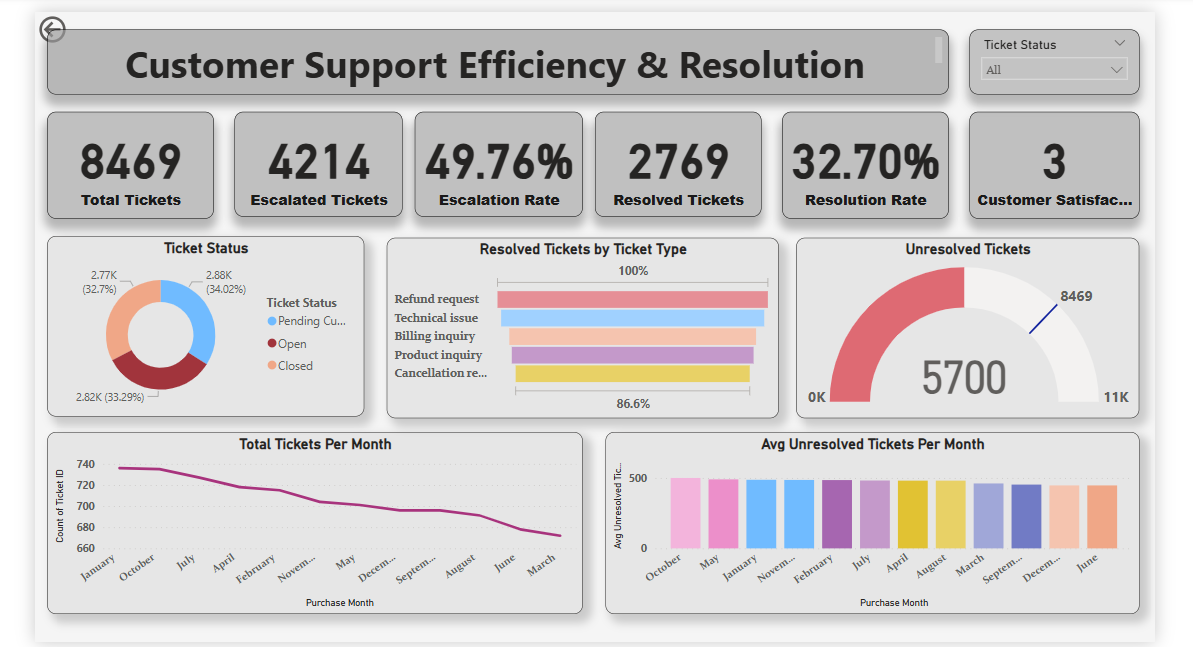

This screenshot's page, from the dashboard's own definition file:
{"tool":"powerbi","page":{"name":"Page 1","canvas":[1280,720],"ordinal":0},"visuals":[{"type":"card","fields":{"Values":["Measures (2).total tickets"]},"box":[14,114,190,122],"z":0},{"type":"card","fields":{"Values":["Measures (2).Resolved Tickets"]},"box":[640,114,190,120],"z":1000},{"type":"card","fields":{"Values":["Measures (2).AVERAGE Customer Satisfaction Score"]},"box":[1068,114,194,122],"z":2000},{"type":"card","fields":{"Values":["Measures (2).Resolution Rate"]},"box":[854,114,190,122],"z":3000},{"type":"card","fields":{"Values":["Measures (2).Escalation Rate"]},"box":[228,114,192,120],"z":4000},{"type":"actionButton","box":[0,0,100,40],"z":4001},{"type":"textbox","box":[14,20,1030,74],"z":4003},{"type":"card","fields":{"Values":["Measures (2).Escalation Rate"]},"box":[434,114,192,120],"z":4004},{"type":"lineChart","title":"Total Tickets Per Month","fields":{"Category":["Cleaned_Customer_Support_Tickets.Purchase Month"],"Y":["CountNonNull(Cleaned_Customer_Support_Tickets.Ticket ID)"]},"box":[14,480,612,208],"z":4006},{"type":"donutChart","title":"Ticket Status ","fields":{"Y":["CountNonNull(Cleaned_Customer_Support_Tickets.Ticket Status)"],"Category":["Cleaned_Customer_Support_Tickets.Ticket Status"]},"box":[14,256,362,206],"z":4007},{"type":"funnel","title":"Resolved Tickets by Ticket Type","fields":{"Y":["Measures (2).Resolved Tickets"],"Category":["Cleaned_Customer_Support_Tickets.Ticket Type"]},"box":[402,258,448,206],"z":4009},{"type":"gauge","title":"Unresolved Tickets","fields":{"TargetValue":["Measures (2).Total Tickets"],"Y":["Measures (2).Unresolved Tickets"]},"box":[870,258,392,206],"z":4010},{"type":"clusteredColumnChart","title":"Avg Unresolved Tickets Per Month ","fields":{"Category":["Cleaned_Customer_Support_Tickets.Purchase Month"],"Y":["Measures (2).Avg Unresolved Tickets Per Month"]},"box":[652,480,610,208],"z":4011},{"type":"slicer","fields":{"Values":["Cleaned_Customer_Support_Tickets.Ticket Status"]},"box":[1068,20,194,74],"z":4012}]}

Visuals, with their boxes in screenshot pixels (x1, y1, x2, y2):
card - Measures (2).total tickets: [40, 107, 209, 215]
card - Measures (2).Resolved Tickets: [594, 107, 763, 213]
card - Measures (2).AVERAGE Customer Satisfaction Score: [973, 107, 1145, 215]
card - Measures (2).Resolution Rate: [784, 107, 952, 215]
card - Measures (2).Escalation Rate: [230, 107, 400, 213]
actionButton: [28, 6, 116, 42]
textbox: [40, 24, 952, 89]
card - Measures (2).Escalation Rate: [412, 107, 582, 213]
"Total Tickets Per Month" lineChart: [40, 431, 582, 615]
"Ticket Status " donutChart: [40, 233, 361, 415]
"Resolved Tickets by Ticket Type" funnel: [384, 235, 780, 417]
"Unresolved Tickets" gauge: [798, 235, 1145, 417]
"Avg Unresolved Tickets Per Month " clusteredColumnChart: [605, 431, 1145, 615]
slicer - Cleaned_Customer_Support_Tickets.Ticket Status: [973, 24, 1145, 89]
